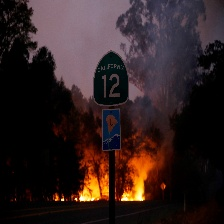fire: (60, 181, 148, 203)
